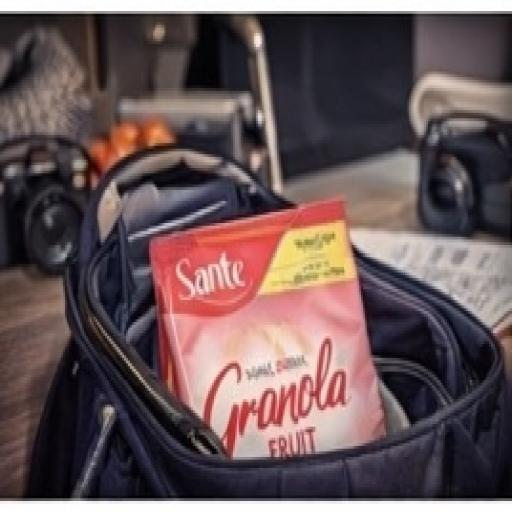granola: (120, 177, 418, 494)
